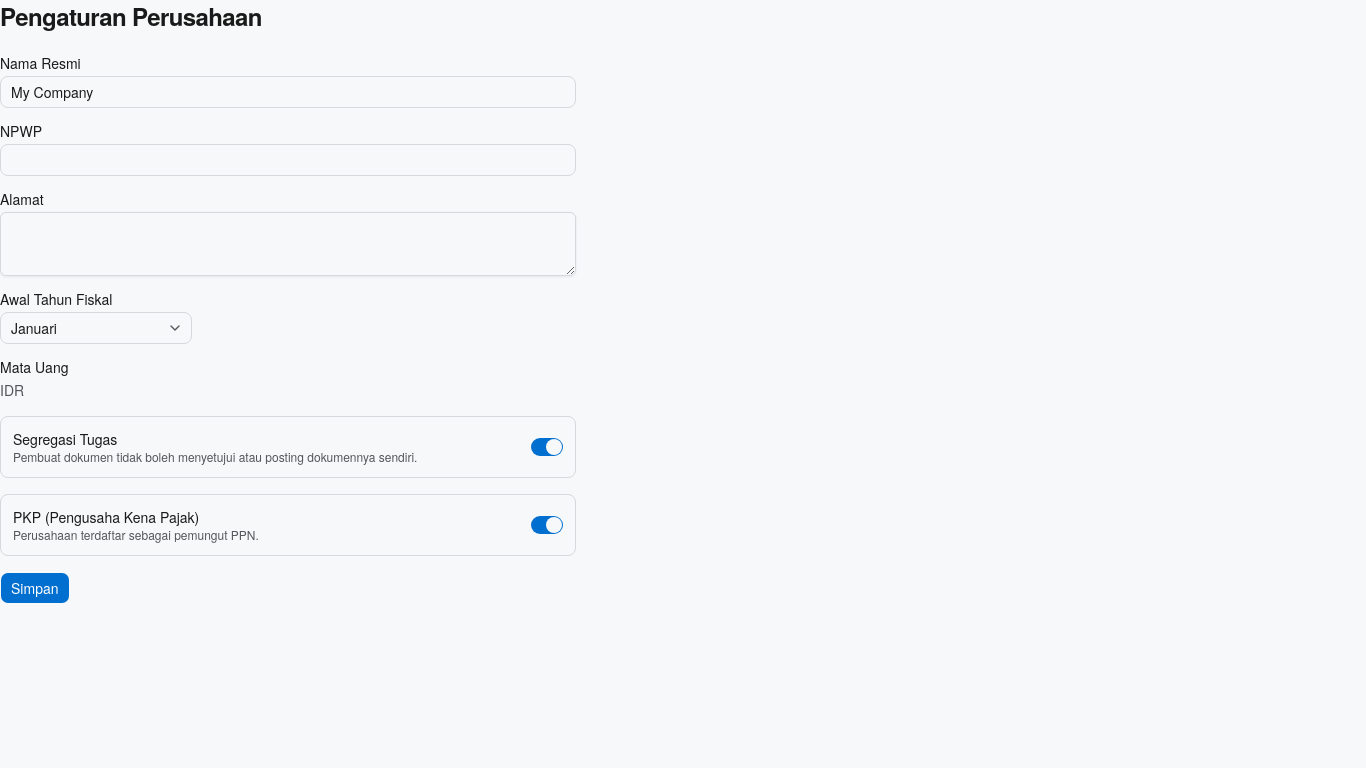
ADMIN: cancelling the SoD confirmation restores the switch and PATCHes nothing
Expected: the field labelled "Nama Resmi" is shown, [0,76,576,108]
What coordinates should you click on to do the following:
click the switch named "Segregasi Tugas"
I would click on:
 (547, 447)
Its box is [531,438,563,456].
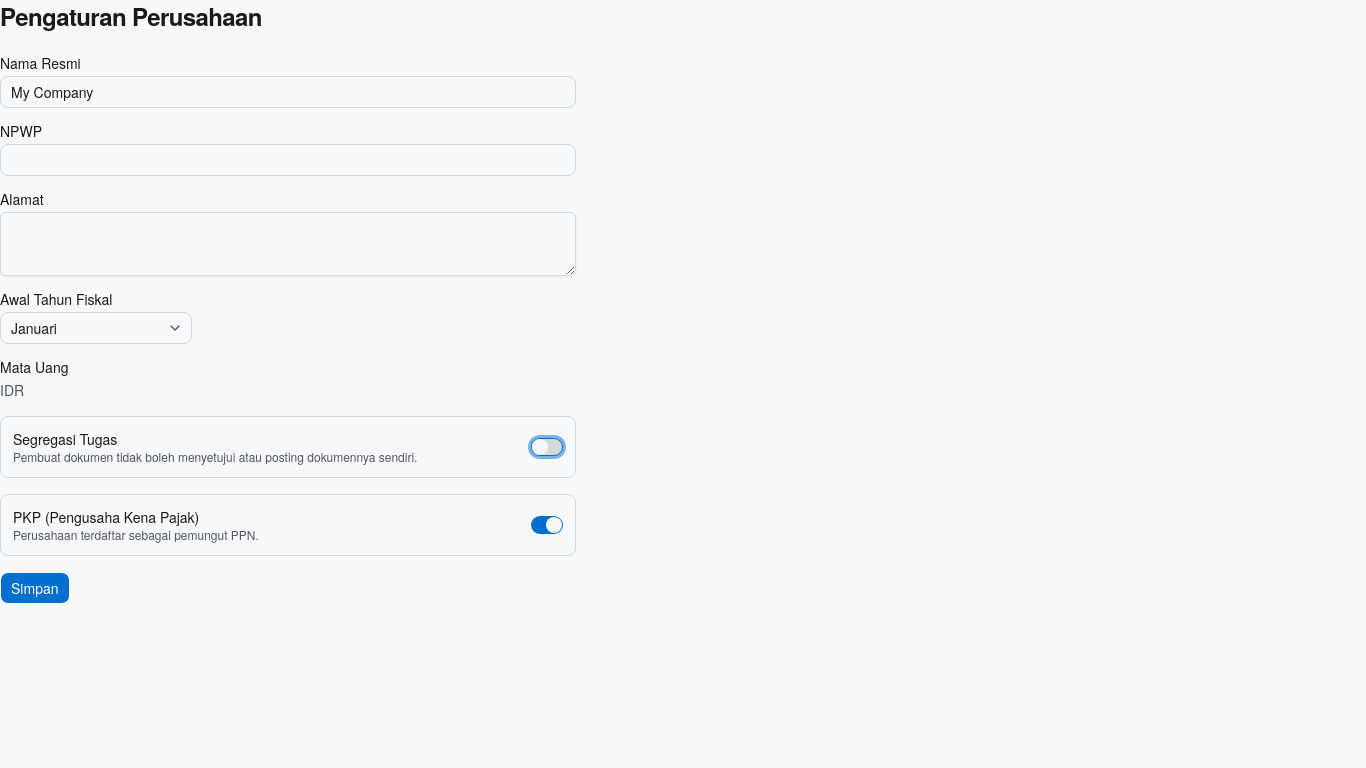
Expected: the switch named "Segregasi Tugas" is not checked, [531,438,563,456]
What coordinates should you click on to do the following:
click the button "Simpan"
I would click on:
 (35, 588)
Its box is [0,572,70,604].
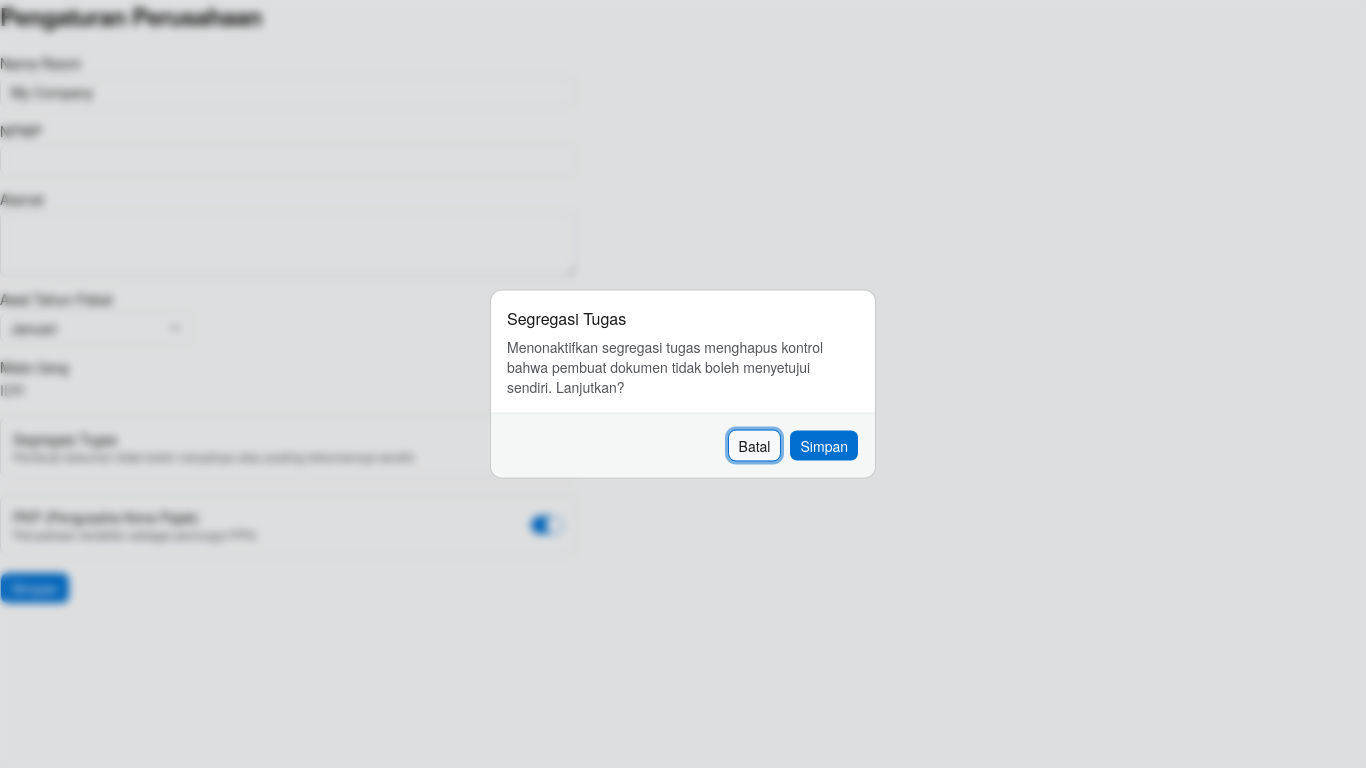
What coordinates should you click on to do the following:
click the button "Batal"
I would click on:
 (755, 446)
Its box is [728,430,782,462].
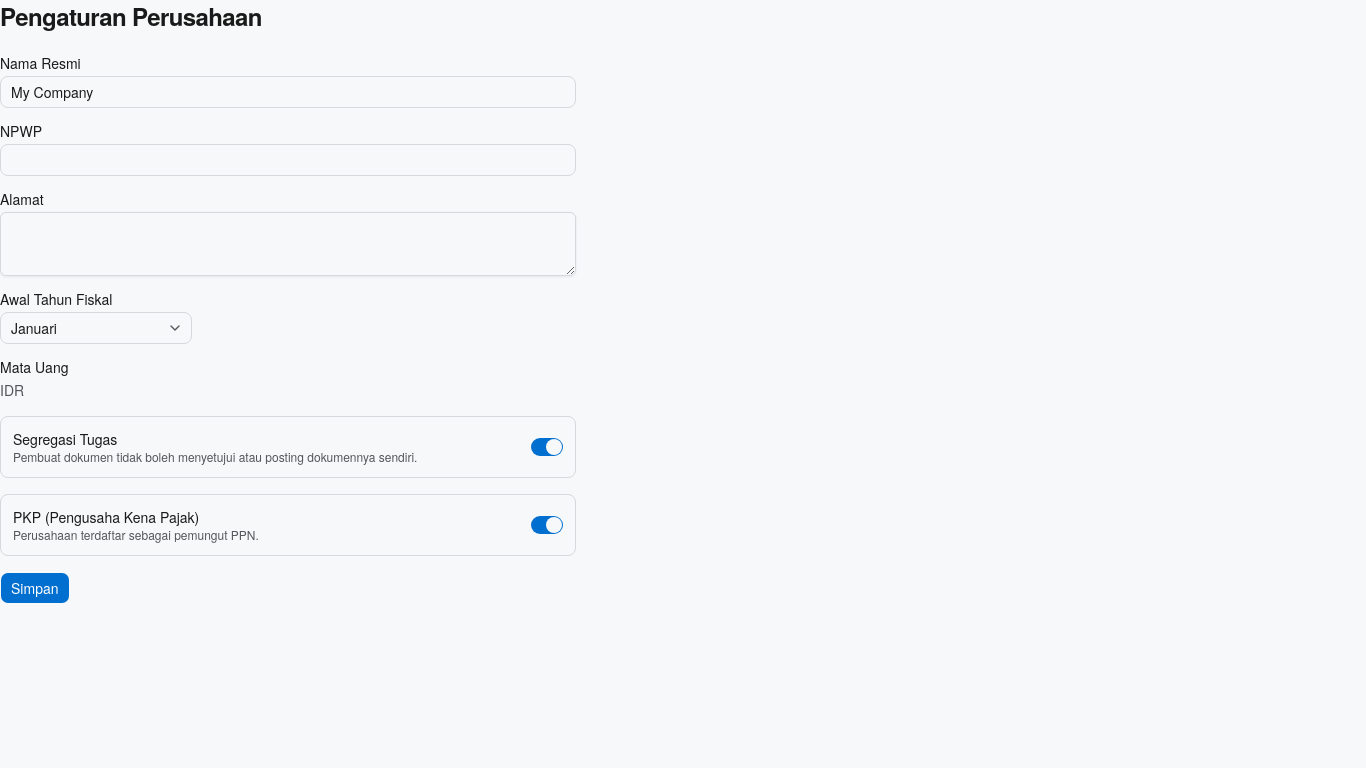
Expected: the switch named "Segregasi Tugas" is checked, [531,438,563,456]
Expected: the dialog is gone
